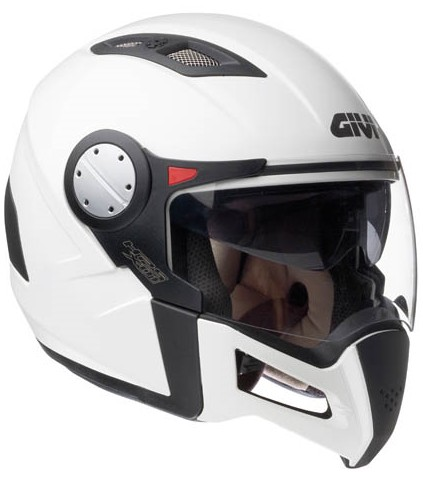helmet: (19, 25, 421, 440)
